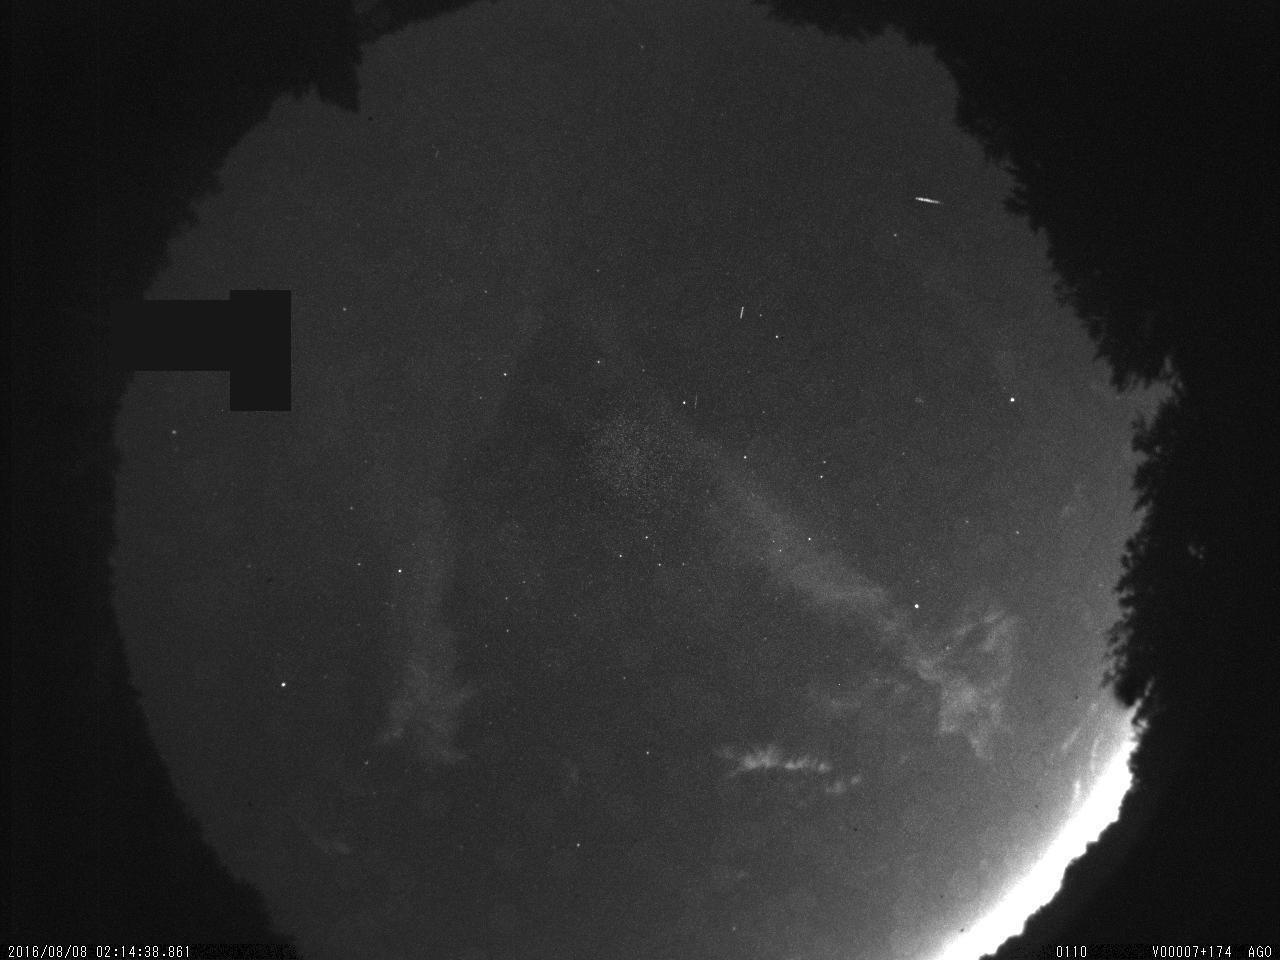Meteor: (908, 190, 949, 212)
